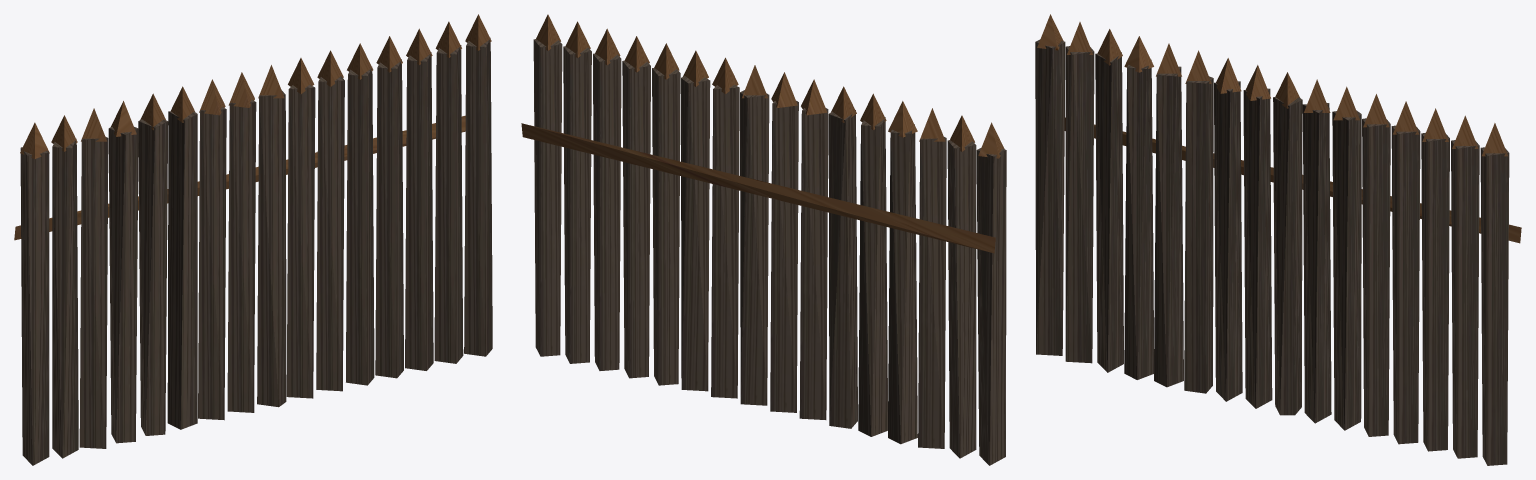
File: palisade_4m_lod1.glb
The picture shows the model from 3 angles, left to right: view 1: azimuth 30°, elevation 25°; view 2: azimuth 150°, elevation 25°; view 3: azimuth 330°, elevation 25°; orthographic projection.
Visible parts, largest first — view 1: m; view 2: m; view 3: m.
Part boxes in pixels (x1,y1,x2,y2): m: (14,14,492,465); m: (521,14,1006,465); m: (1035,14,1521,465).
Bounding box in the file's own units: 4 × 2.72 × 0.2398.
Materials: 2 (2 with a texture image).
